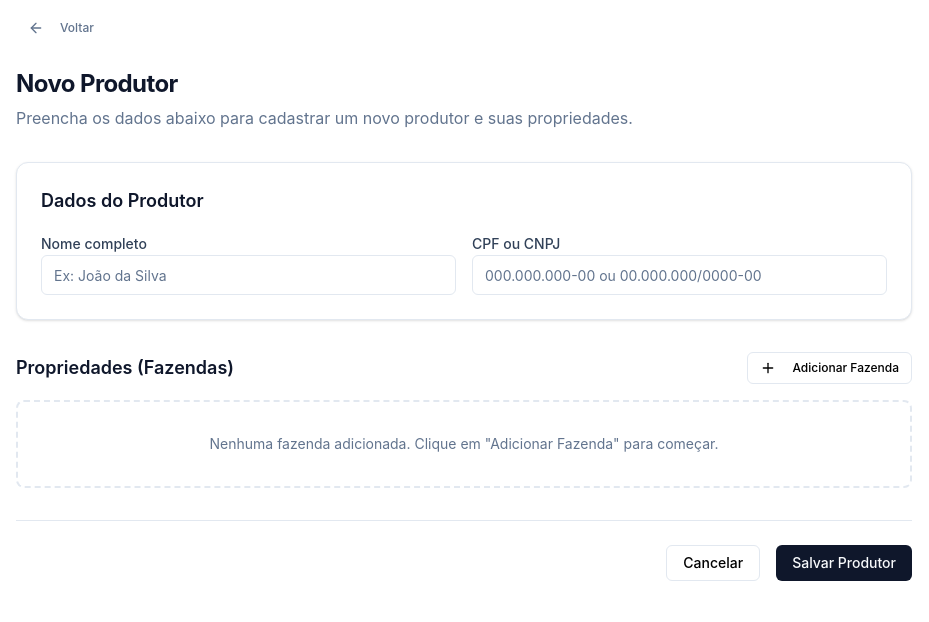
Scenario: CreateProducer › shows validation errors when submitting empty form
Click the button "Salvar Produtor" at (844, 563), box top-left (776, 545), bottom-right (912, 581)
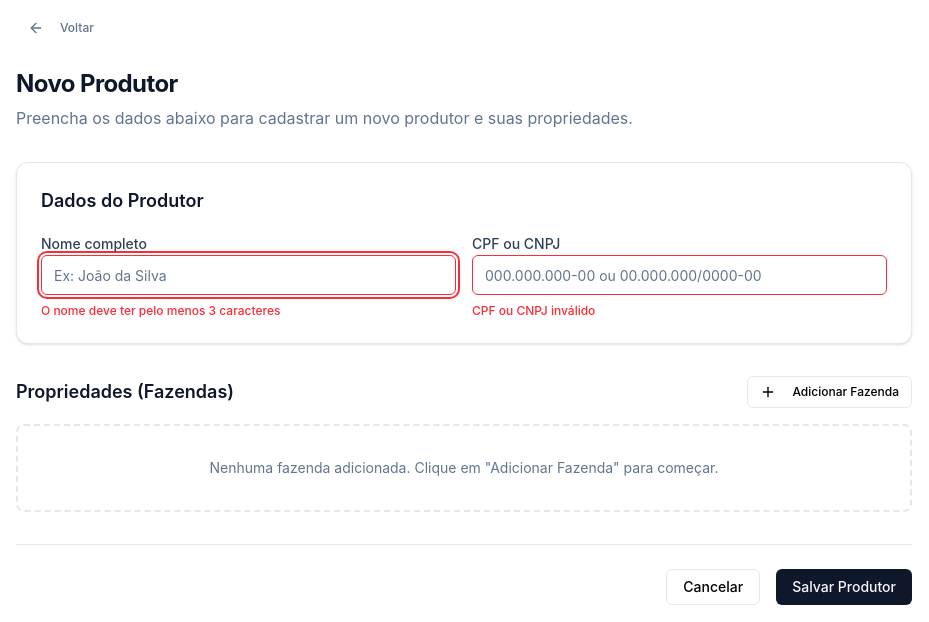
Check: the text "O nome deve ter pelo menos 3 caracteres" is shown, box top-left (41, 303), bottom-right (280, 318)
Check: the text "CPF ou CNPJ inválido" is shown, box top-left (472, 303), bottom-right (595, 318)
